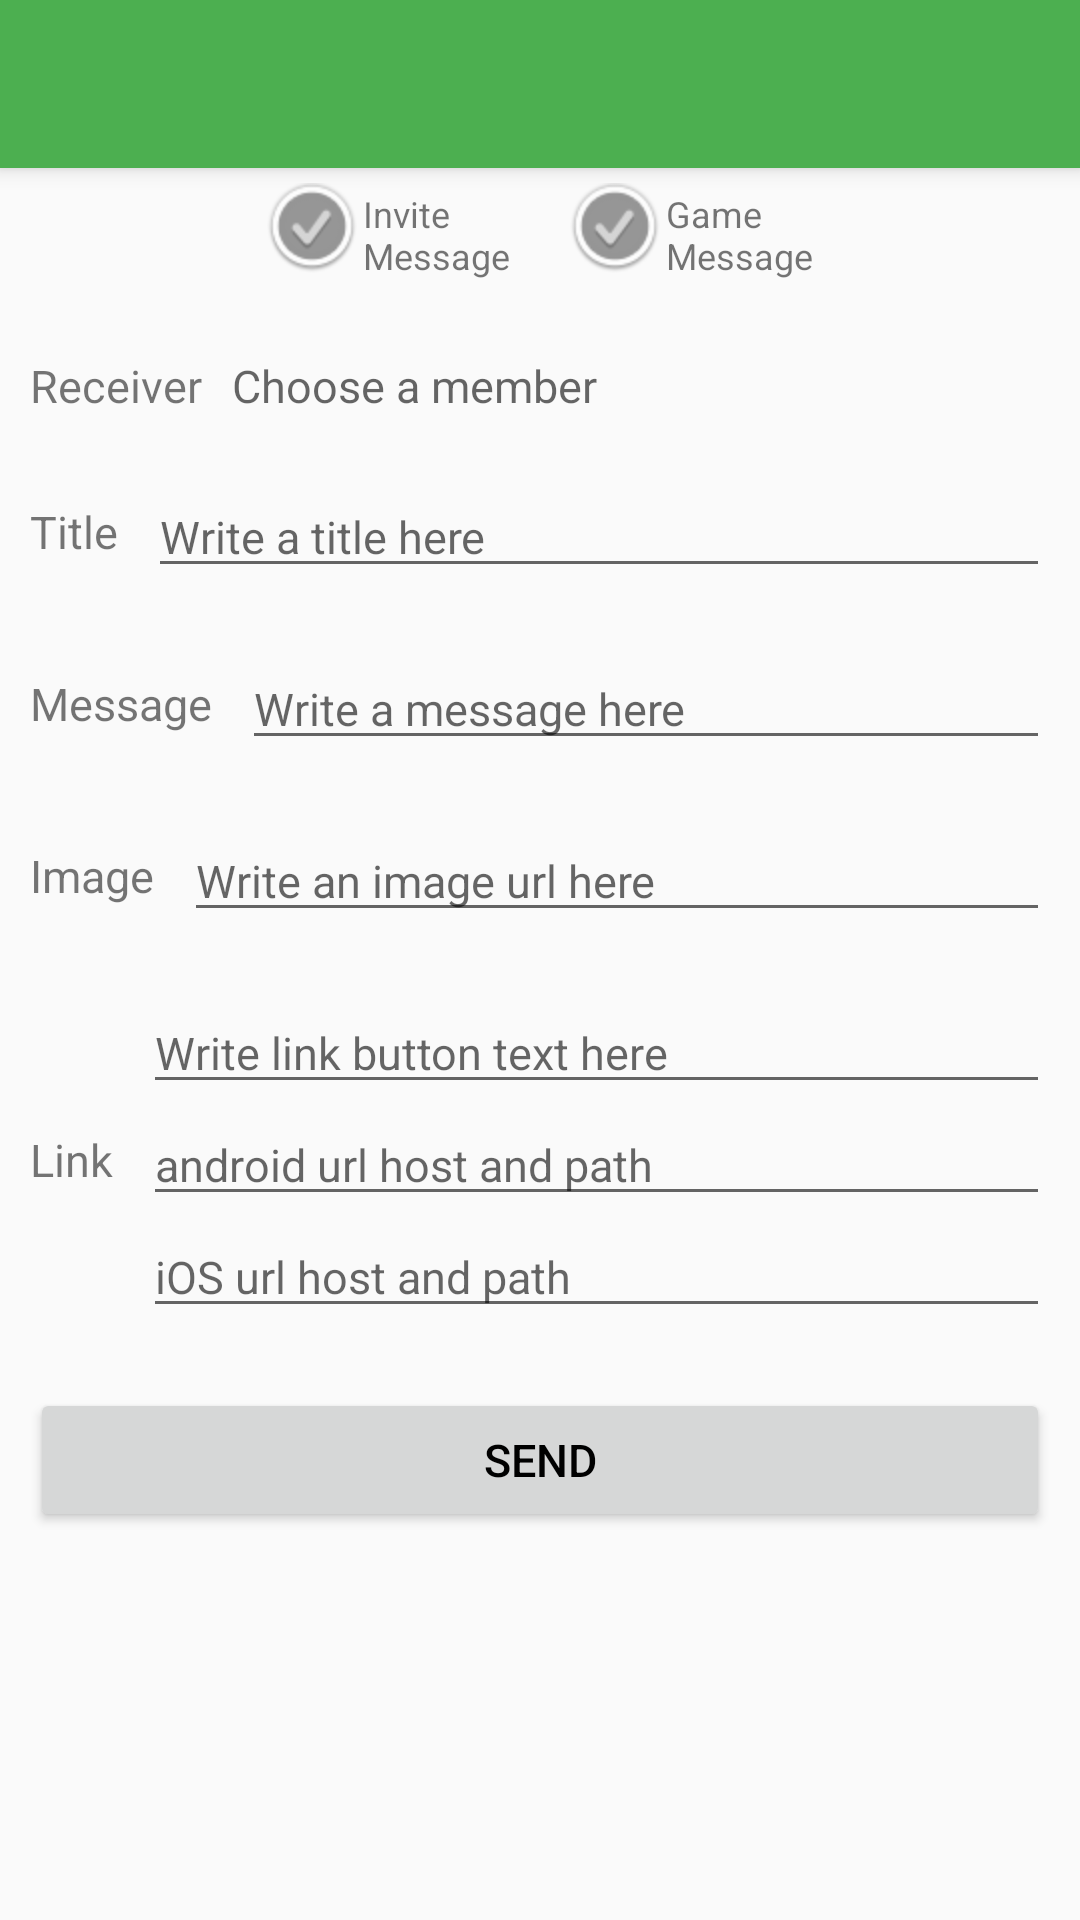

Named icons in this screenshot (1080×1920) and their bounding boxes, region(x1, y1, x2, y2):
thumbphoto uncheck: region(270, 184, 354, 270), region(573, 184, 657, 270)
